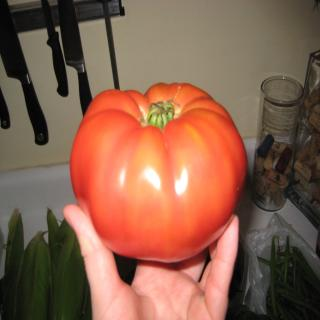tomato: (69, 89, 251, 264)
